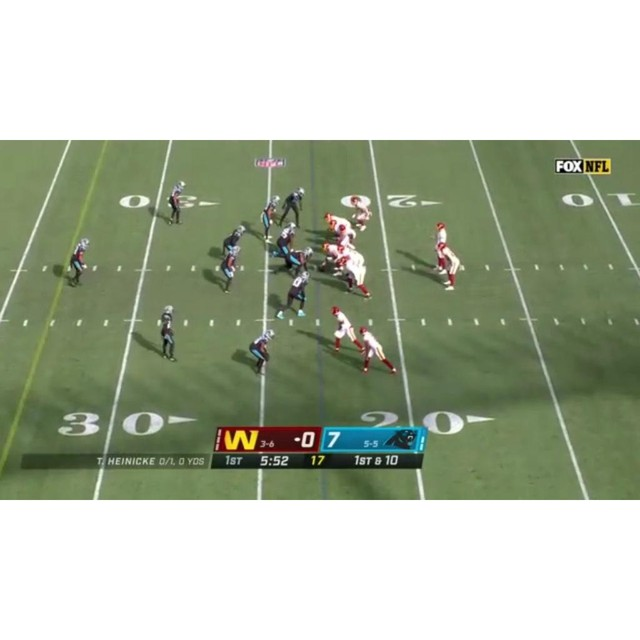american-football-player: (358, 326, 397, 376), (277, 270, 311, 319), (331, 305, 364, 354), (435, 240, 464, 291), (338, 258, 372, 300), (216, 245, 243, 295), (66, 238, 91, 288), (249, 329, 275, 376), (157, 305, 178, 362), (274, 248, 315, 277), (269, 222, 298, 261), (279, 187, 305, 228), (430, 222, 449, 273), (260, 196, 281, 241), (348, 195, 373, 232), (317, 241, 343, 274), (168, 181, 186, 226), (221, 225, 246, 256), (334, 246, 365, 270)
